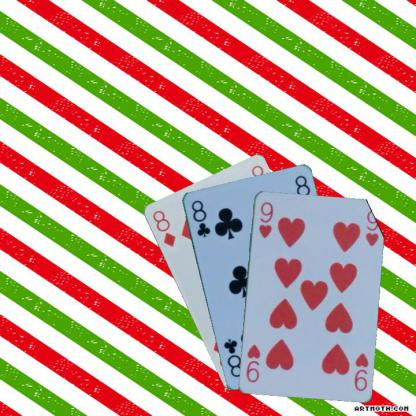8c: (188, 197, 212, 239)
8d: (150, 208, 176, 249)
9h: (351, 350, 370, 392), (256, 199, 274, 240)
